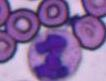N: (29, 31, 81, 80)
